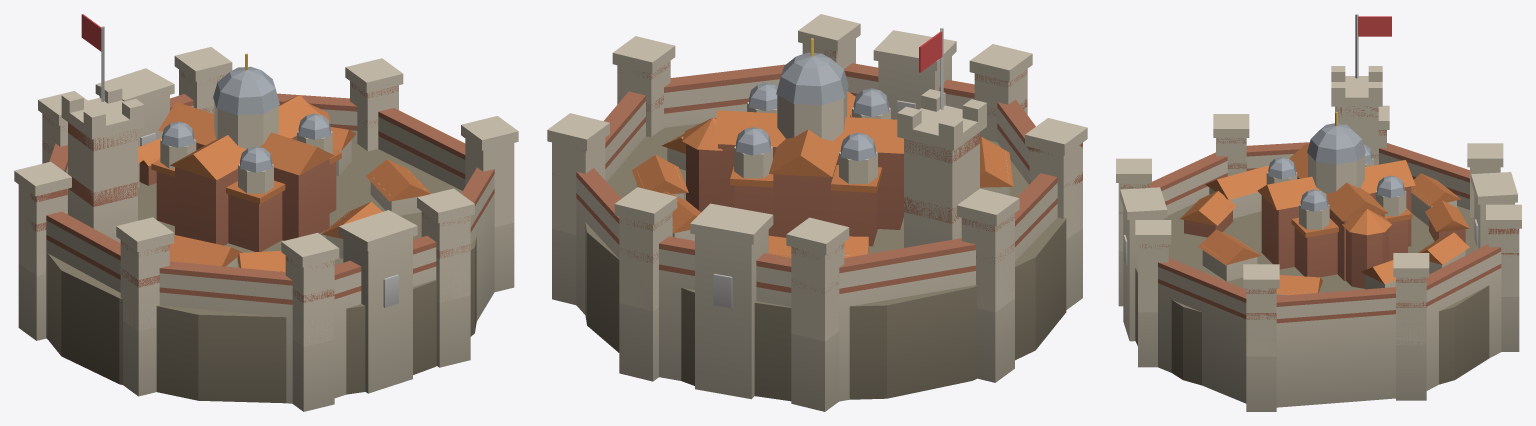
File: town_byz_a.glb
3 renders of one model, left to right at view 1: azimuth 30°, elevation 25°; view 2: azimuth 150°, elevation 25°; view 3: azimuth 270°, elevation 25°, orthographic. The views are drawn at different scales.
Parts seen in each view (by area): view 1: town_byz_a, Cube.094, Cube.061, Cube.051, Cube.074, Cube.041, Cube.084, Cube.008, Cube.018, Cube.031; view 2: town_byz_a, Cube.094, Cube.031, Cube.018, Cube.041, Cube.008, Cube.051, Cube.084, Cube.061, Cube.074; view 3: town_byz_a, Cube.008, Cube.084, Cube.074, Cube.094, Cube.018, Cube.051, Cube.061, Cube.031.
Part boxes in pixels (x1,y1,x2,y2): town_byz_a: [14, 14, 518, 411]; Cube.094: [78, 128, 137, 217]; Cube.061: [285, 255, 334, 346]; Cube.051: [120, 241, 169, 331]; Cube.074: [421, 212, 470, 302]; Cube.041: [18, 184, 67, 275]; Cube.084: [465, 138, 514, 227]; Cube.008: [350, 82, 398, 151]; Cube.018: [179, 70, 226, 113]; Cube.031: [42, 114, 67, 163]; town_byz_a: [547, 14, 1087, 411]; Cube.094: [904, 132, 979, 235]; Cube.031: [791, 242, 844, 341]; Cube.018: [619, 212, 672, 310]; Cube.041: [961, 213, 1014, 312]; Cube.008: [552, 138, 605, 234]; Cube.051: [1029, 145, 1082, 239]; Cube.084: [617, 61, 670, 136]; Cube.061: [974, 69, 1027, 142]; Cube.074: [802, 38, 855, 68]; town_byz_a: [1116, 14, 1521, 411]; Cube.008: [1396, 277, 1426, 345]; Cube.084: [1246, 288, 1276, 356]; Cube.074: [1138, 244, 1168, 312]; Cube.094: [1335, 106, 1378, 164]; Cube.018: [1488, 228, 1519, 296]; Cube.051: [1216, 138, 1246, 176]; Cube.061: [1118, 183, 1149, 250]; Cube.031: [1470, 167, 1500, 217].
Bounding box in the file's own units: 1.88 × 1.28 × 1.86.
